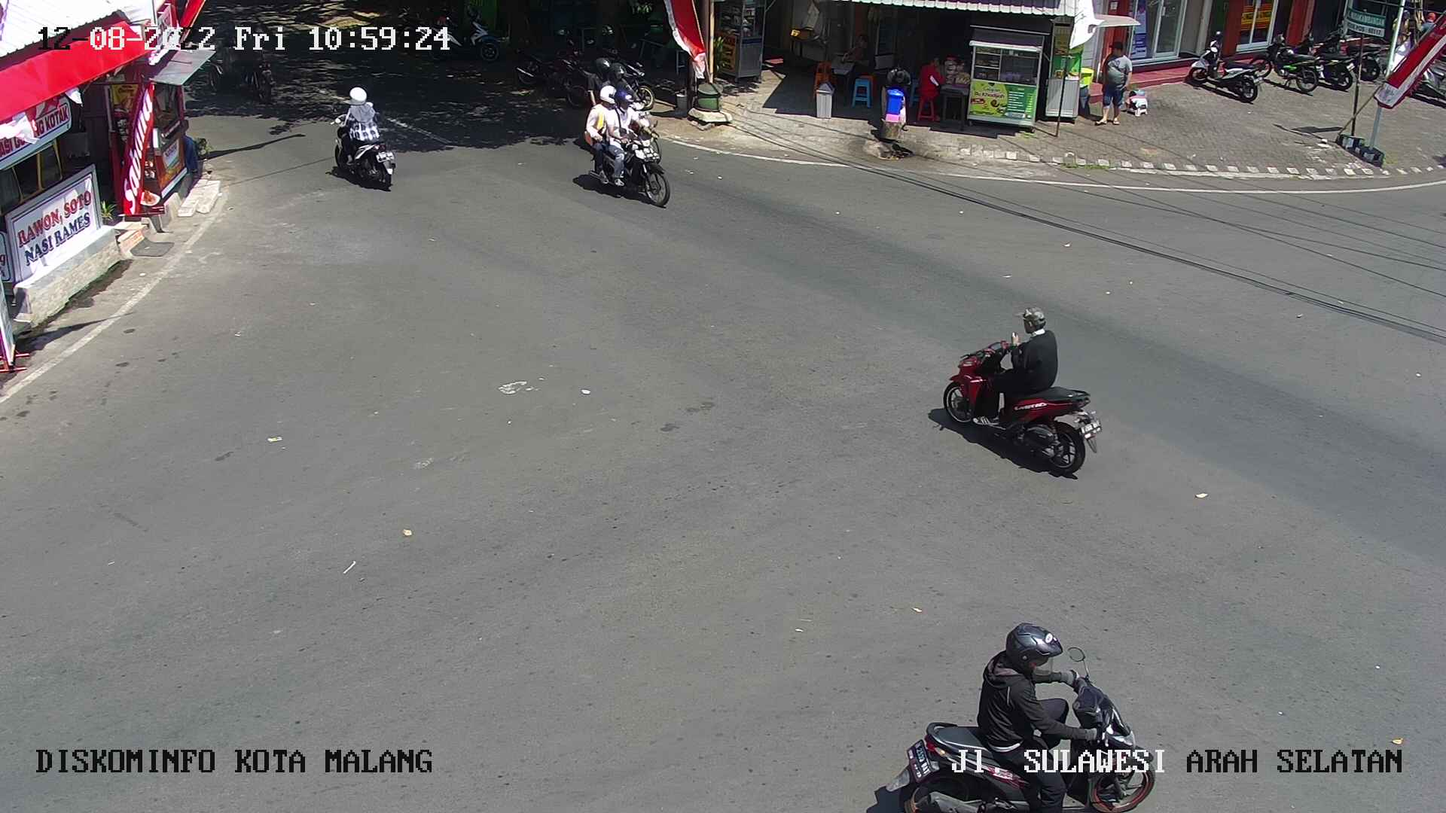with_helmet: (882, 625, 1147, 813), (561, 81, 698, 236), (302, 70, 437, 216)
without_helmet: (925, 290, 1114, 484)
